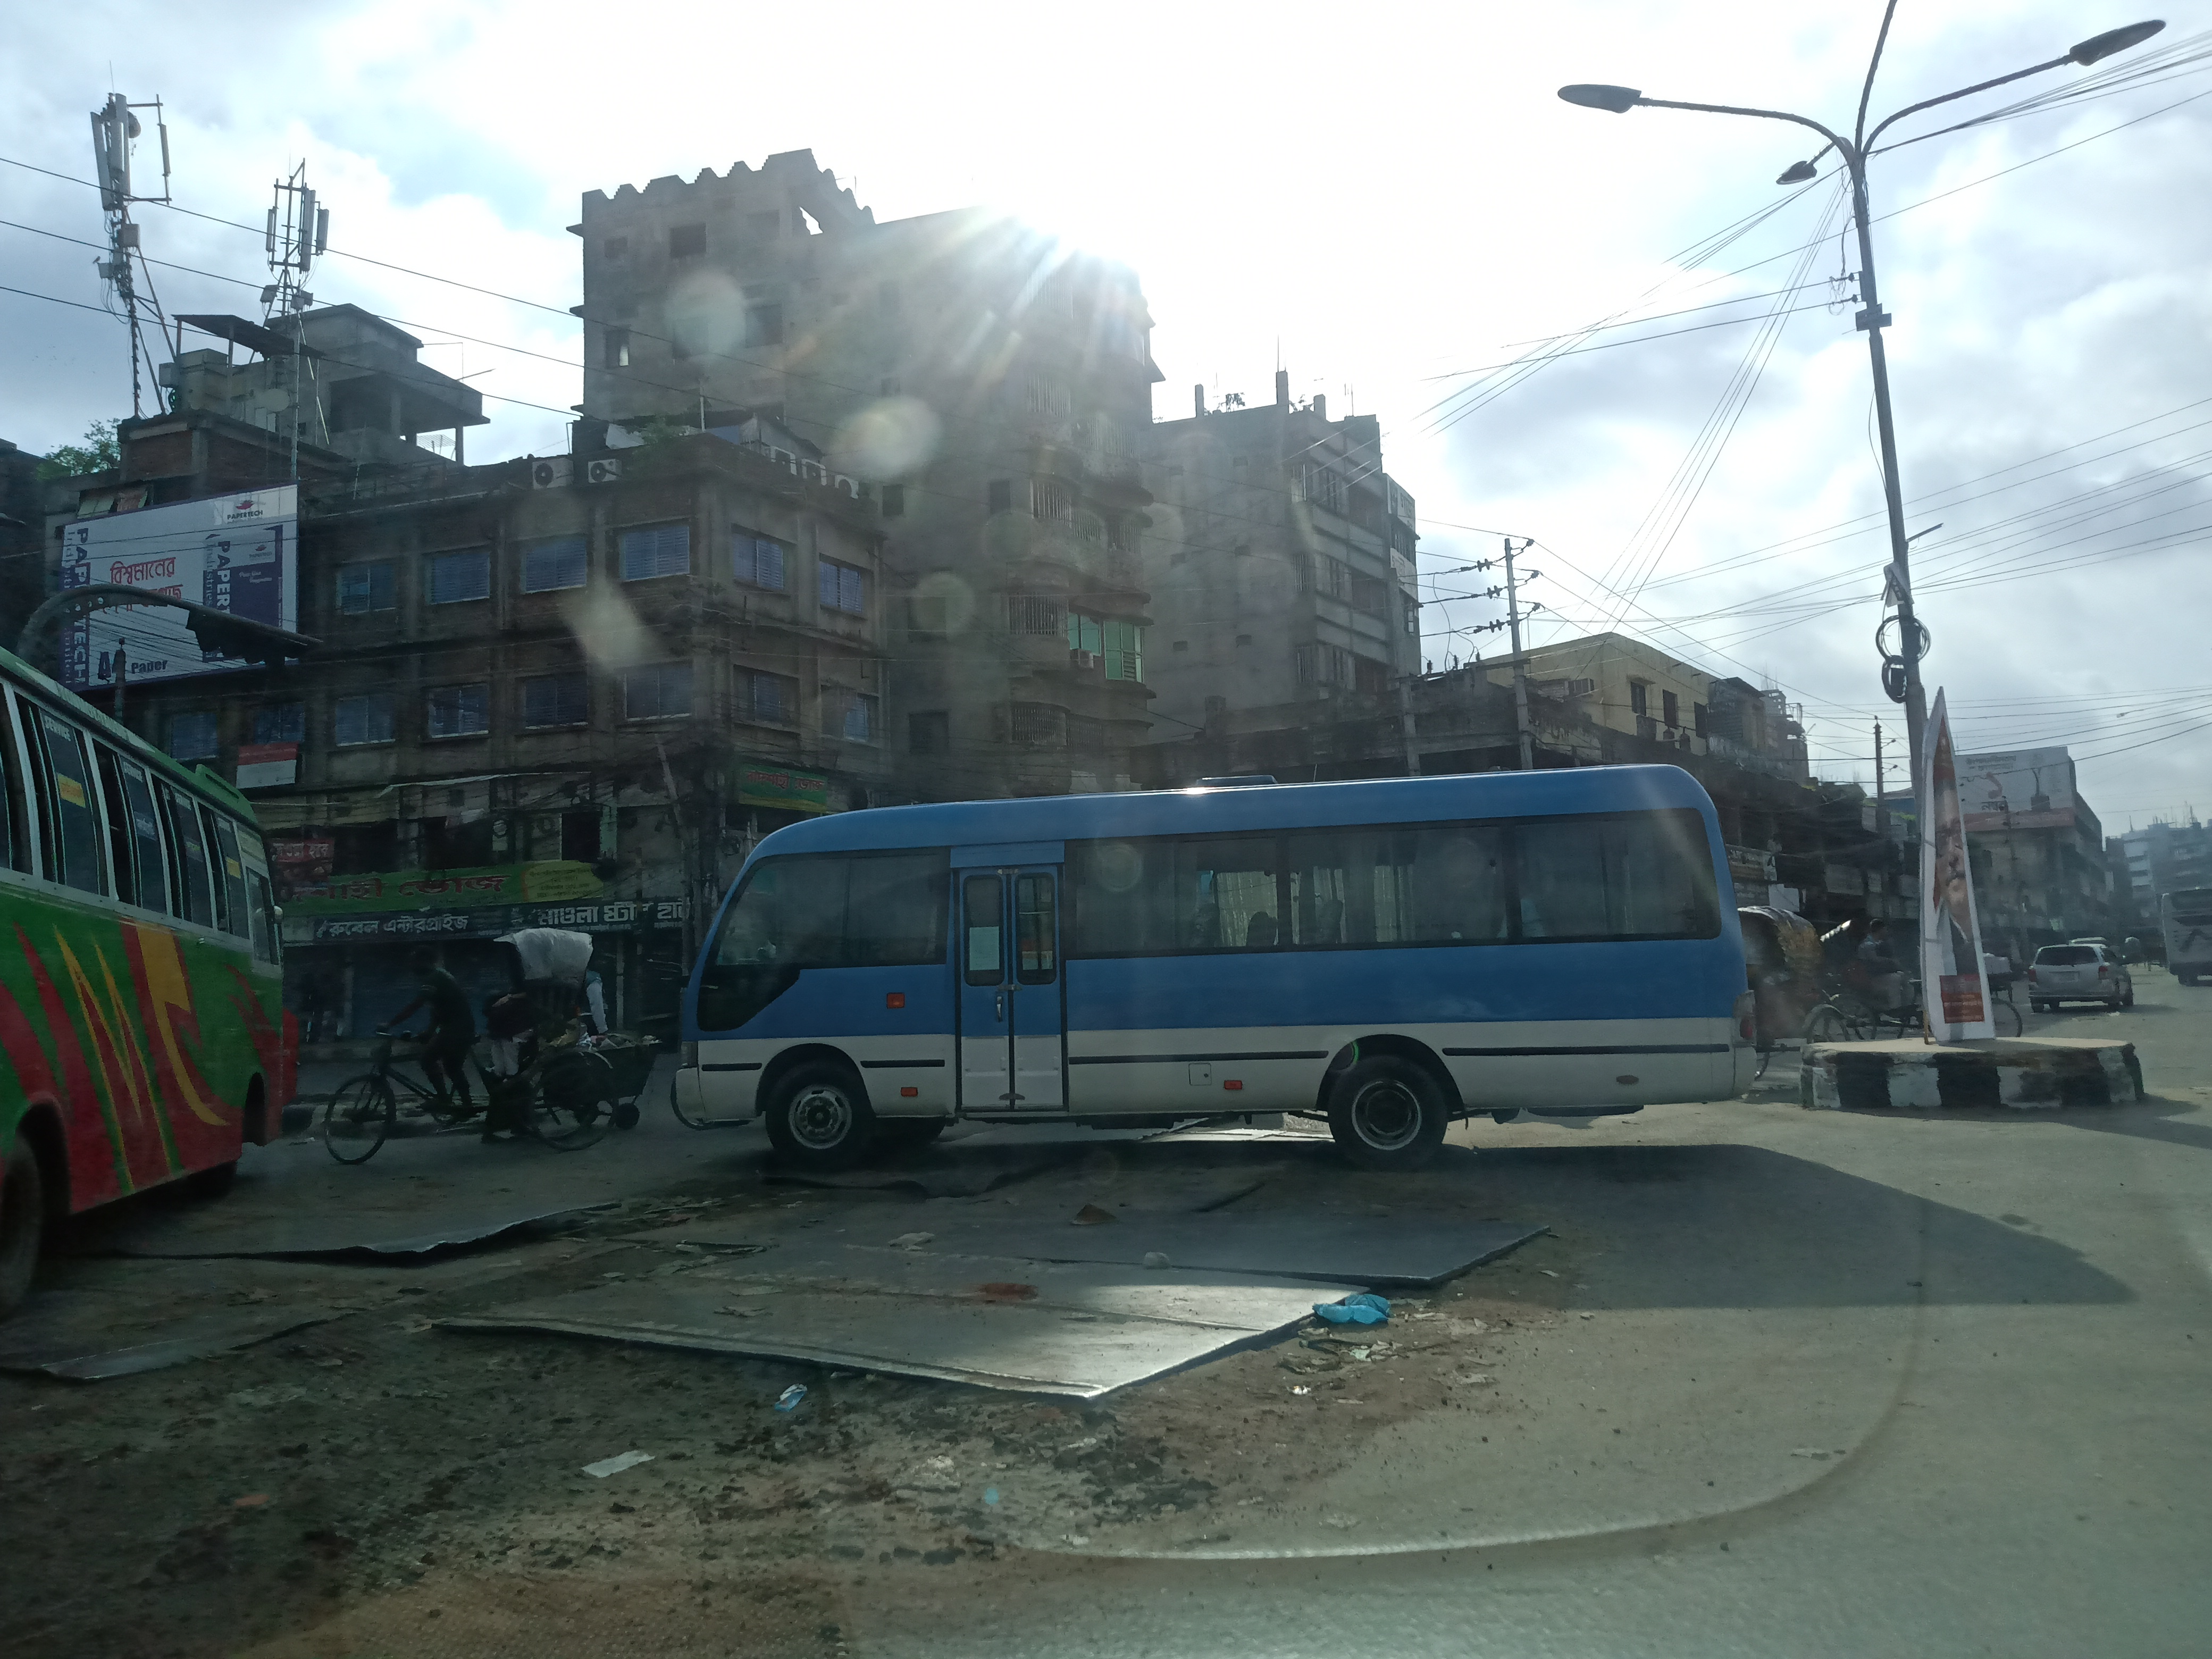bus: (658, 788, 1771, 1194), (10, 638, 307, 1277)
car: (2022, 929, 2134, 1030)
rickshaw: (310, 918, 606, 1175)
